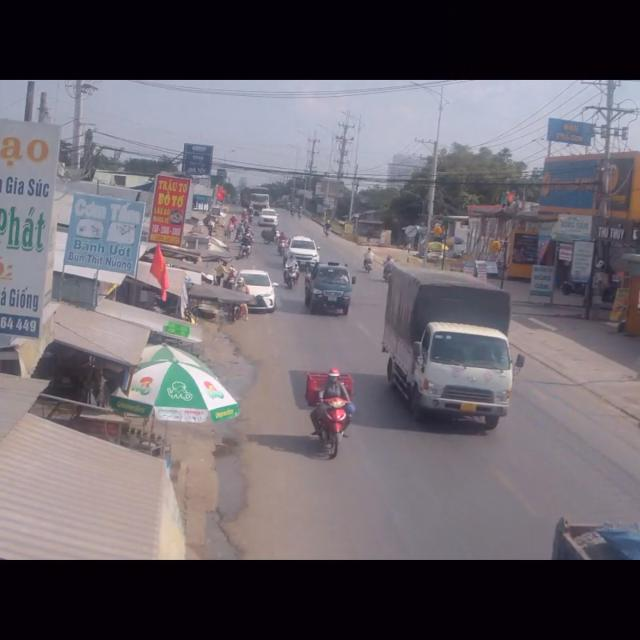car: (283, 234, 319, 272)
motorbike: (308, 371, 356, 462)
truck: (378, 269, 515, 425), (304, 259, 353, 319)
